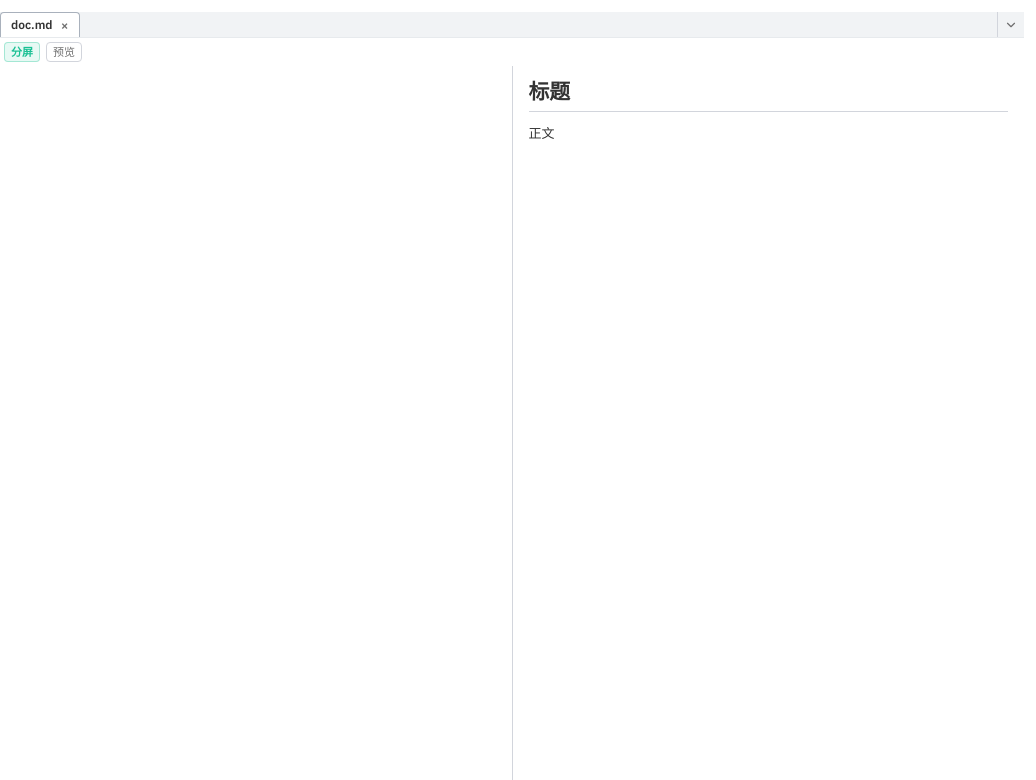
Test: EditorArea markdown 分屏 / 预览视图 › 切到「预览」后源码不再渲染，仅预览
Click the button "预览" at (64, 52), box [46,42,82,62]
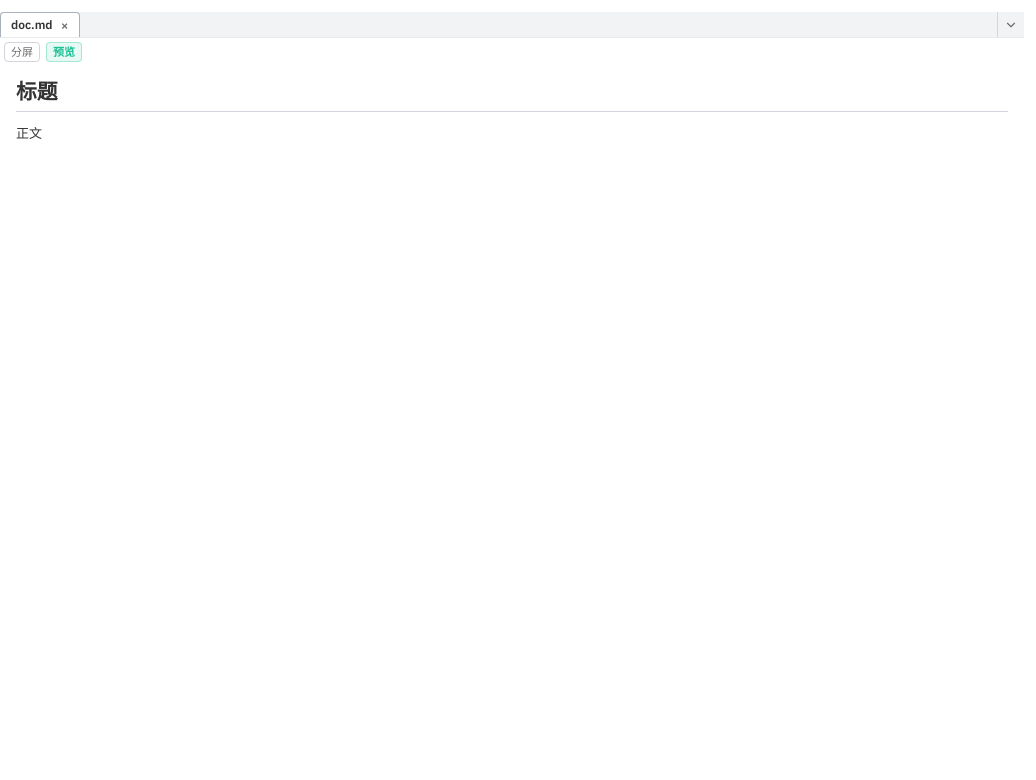
Expected: the element showing "标题 正文" is shown, [0,66,1024,156]
Expected: the element with test id "md-source-pane" is gone
